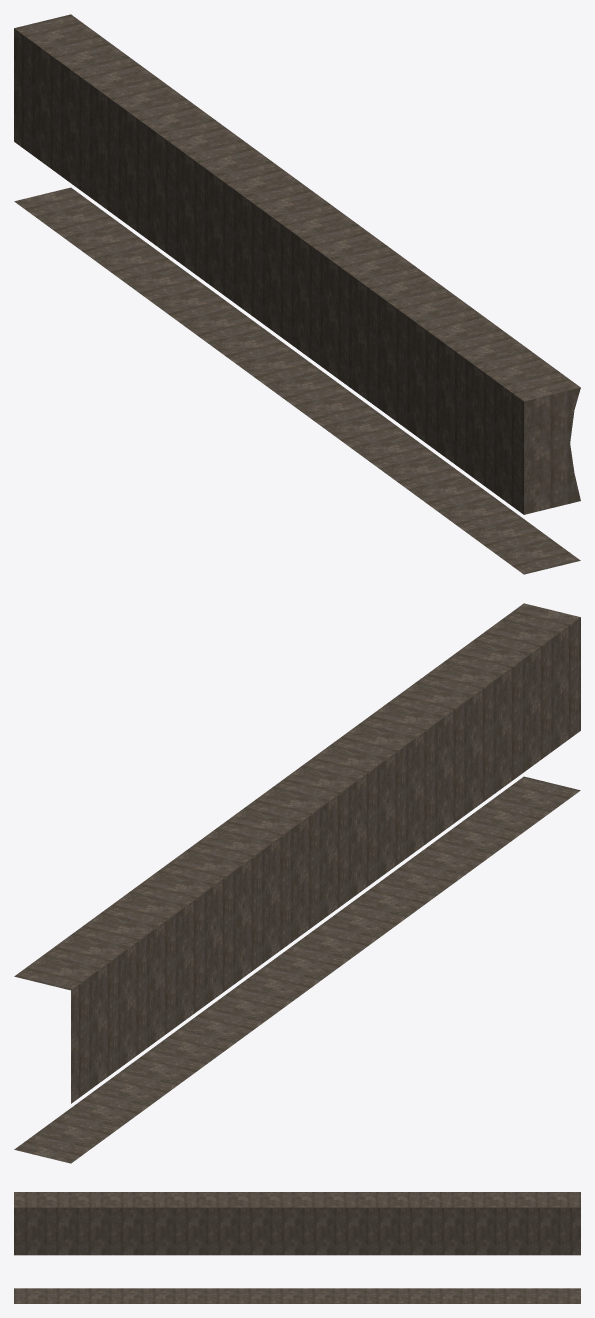
Rendered from tunnel04.fbx.
3 renders of one model, top to bottom at view 1: azimuth 30°, elevation 25°; view 2: azimuth 150°, elevation 25°; view 3: azimuth 270°, elevation 25°, orthographic. The views are drawn at different scales.
Visible parts, largest first — view 1: LODGroup_1_MainMesh_1_SubMesh_1; view 2: LODGroup_1_MainMesh_1_SubMesh_1; view 3: LODGroup_1_MainMesh_1_SubMesh_1.
Boxes of the visible parts, x1=… form: LODGroup_1_MainMesh_1_SubMesh_1: x1=14, y1=14, x2=580, y2=574; LODGroup_1_MainMesh_1_SubMesh_1: x1=14, y1=603, x2=580, y2=1163; LODGroup_1_MainMesh_1_SubMesh_1: x1=14, y1=1192, x2=580, y2=1303.
Size of the model in its own units: 500 by 1450 by 7741.
